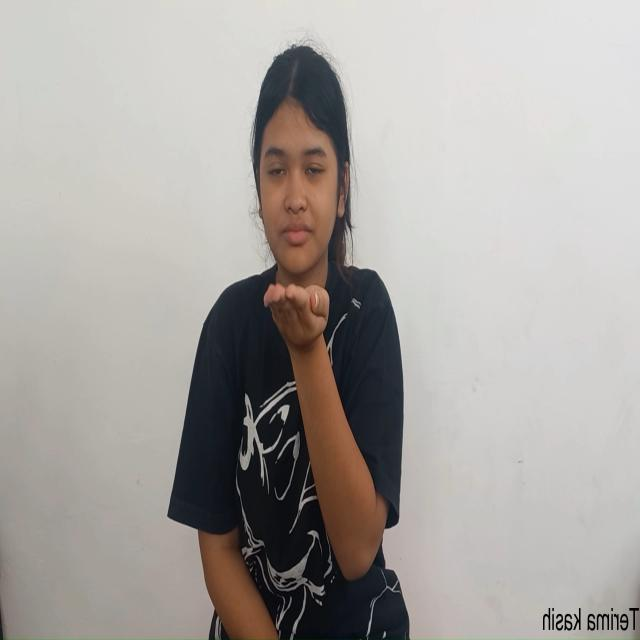Terima kasih -BISINDO-: (262, 277, 399, 581)
